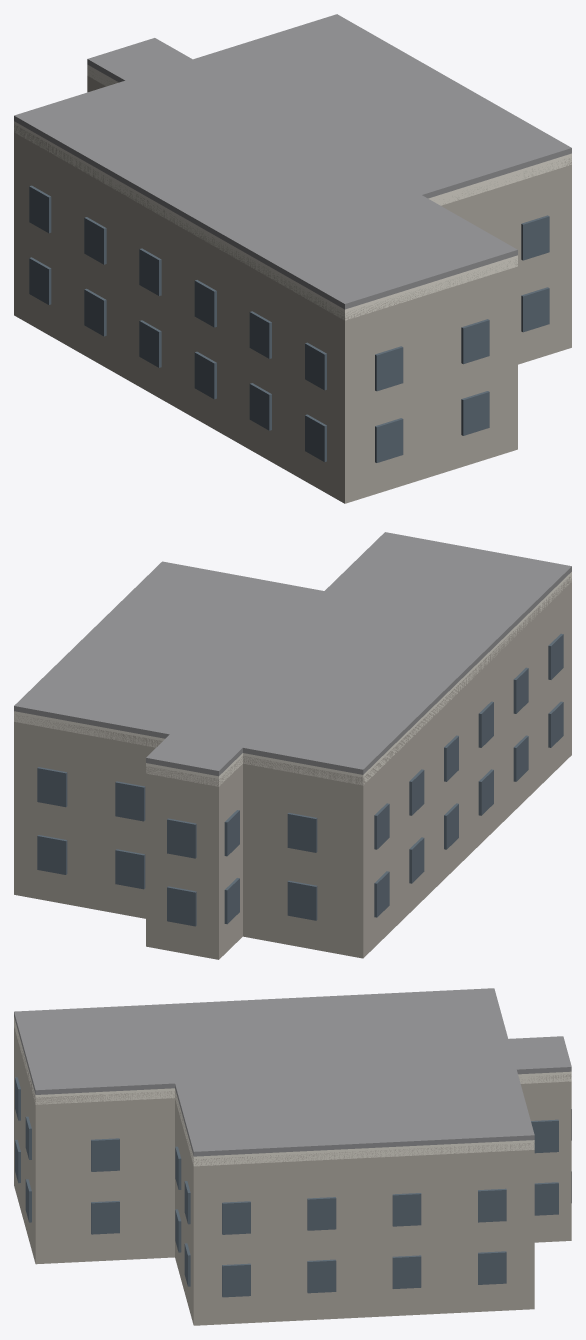
Rendered from s08_gis_247986_820733.glb.
3 renders of one model, top to bottom at view 1: azimuth 30°, elevation 25°; view 2: azimuth 150°, elevation 25°; view 3: azimuth 270°, elevation 25°, orthographic. The views are drawn at different scales.
Parts seen in each view (by area): view 1: mass, roofcap, cornice, win_3_1_0, win_5_1_1, win_3_1_1, win_5_0_1, win_3_0_0, win_3_0_1, win_2_0_1, win_2_0_4, win_2_1_1 (+9 smaller); view 2: mass, roofcap, cornice, win_1_0_0, win_7_0_1, win_7_1_1, win_7_1_0, win_7_0_0, win_1_1_0, win_9_1_0, win_9_0_0, win_2_0_0 (+13 smaller); view 3: mass, roofcap, cornice, win_6_0_1, win_6_0_2, win_6_1_2, win_6_1_1, win_4_0_0, win_6_0_0, win_6_1_3, win_4_1_0, win_6_1_0 (+3 smaller).
Part boxes in pixels (left/top/right/bottom): mass: left=14, top=70, right=571, bottom=503; roofcap: left=14, top=14, right=571, bottom=309; cornice: left=14, top=64, right=571, bottom=320; win_3_1_0: left=375, top=346, right=403, bottom=391; win_5_1_1: left=521, top=215, right=549, bottom=260; win_3_1_1: left=461, top=319, right=489, bottom=364; win_5_0_1: left=521, top=287, right=549, bottom=332; win_3_0_0: left=375, top=418, right=403, bottom=462; win_3_0_1: left=461, top=391, right=489, bottom=435; win_2_0_1: left=84, top=288, right=106, bottom=336; win_2_0_4: left=249, top=383, right=271, bottom=430; win_2_1_1: left=84, top=217, right=106, bottom=264; mass: left=14, top=576, right=571, bottom=959; roofcap: left=14, top=532, right=571, bottom=776; cornice: left=14, top=572, right=571, bottom=786; win_1_0_0: left=287, top=880, right=317, bottom=920; win_7_0_1: left=115, top=849, right=145, bottom=889; win_7_1_1: left=115, top=781, right=145, bottom=821; win_7_1_0: left=37, top=767, right=67, bottom=807; win_7_0_0: left=37, top=835, right=67, bottom=874; win_1_1_0: left=287, top=813, right=317, bottom=852; win_9_1_0: left=167, top=818, right=196, bottom=858; win_9_0_0: left=167, top=886, right=196, bottom=926; win_2_0_0: left=374, top=871, right=389, bottom=917; mass: left=14, top=1027, right=571, bottom=1325; roofcap: left=14, top=988, right=571, bottom=1156; cornice: left=14, top=1017, right=571, bottom=1166; win_6_0_1: left=307, top=1259, right=336, bottom=1293; win_6_0_2: left=392, top=1255, right=421, bottom=1288; win_6_1_2: left=392, top=1193, right=421, bottom=1226; win_6_1_1: left=307, top=1197, right=336, bottom=1230; win_4_0_0: left=91, top=1200, right=119, bottom=1234; win_6_0_0: left=222, top=1263, right=250, bottom=1297; win_6_1_3: left=478, top=1188, right=506, bottom=1222; win_4_1_0: left=91, top=1138, right=119, bottom=1171; win_6_1_0: left=222, top=1201, right=250, bottom=1234.
Bounding box in the file's own units: 16.85 × 8.35 × 24.28.
